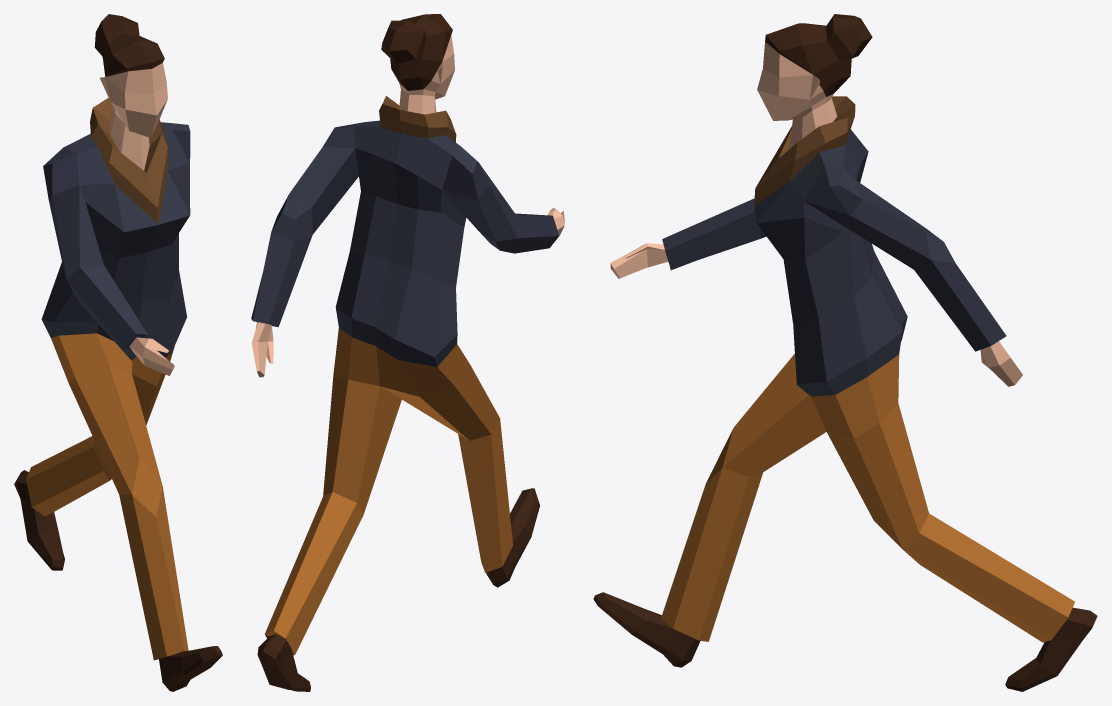
The model's file is AutumnWomanC.002.glb.
3 views of the same model, side by side, from view 1: azimuth 30°, elevation 25°; view 2: azimuth 150°, elevation 25°; view 3: azimuth 270°, elevation 25° (orthographic). The views are drawn at different scales.
Visible parts, largest first — view 1: AutumnWomanC.002; view 2: AutumnWomanC.002; view 3: AutumnWomanC.002.
Boxes of the visible parts, x1,y1,x2,y2 form: AutumnWomanC.002: (14, 14, 222, 691); AutumnWomanC.002: (251, 14, 564, 691); AutumnWomanC.002: (593, 14, 1097, 691).
Size of the model in its own units: 0.4566 by 1.6 by 1.11.
Materials: 1 (1 with a texture image).
